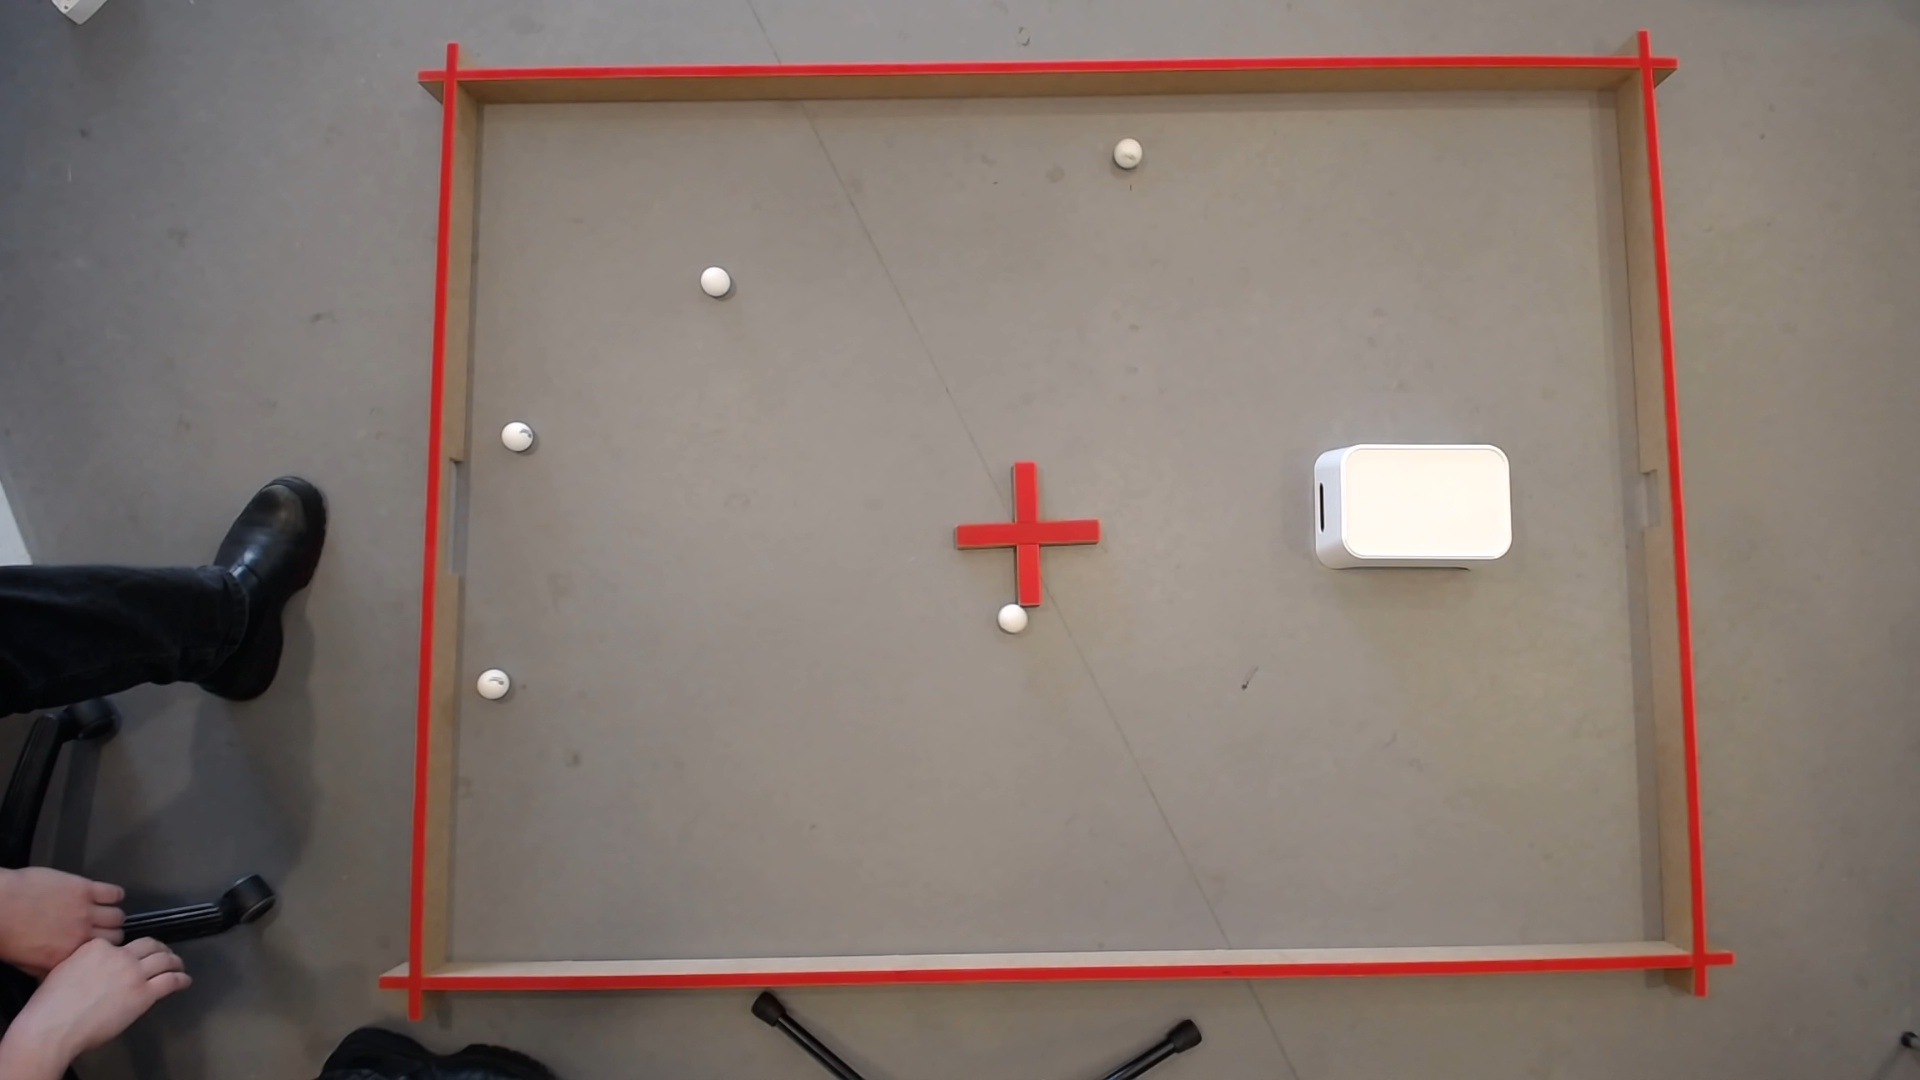balls: (994, 599, 1027, 632), (698, 261, 732, 293), (502, 421, 527, 444), (1116, 136, 1141, 156)
car: (1360, 447, 1474, 450)
